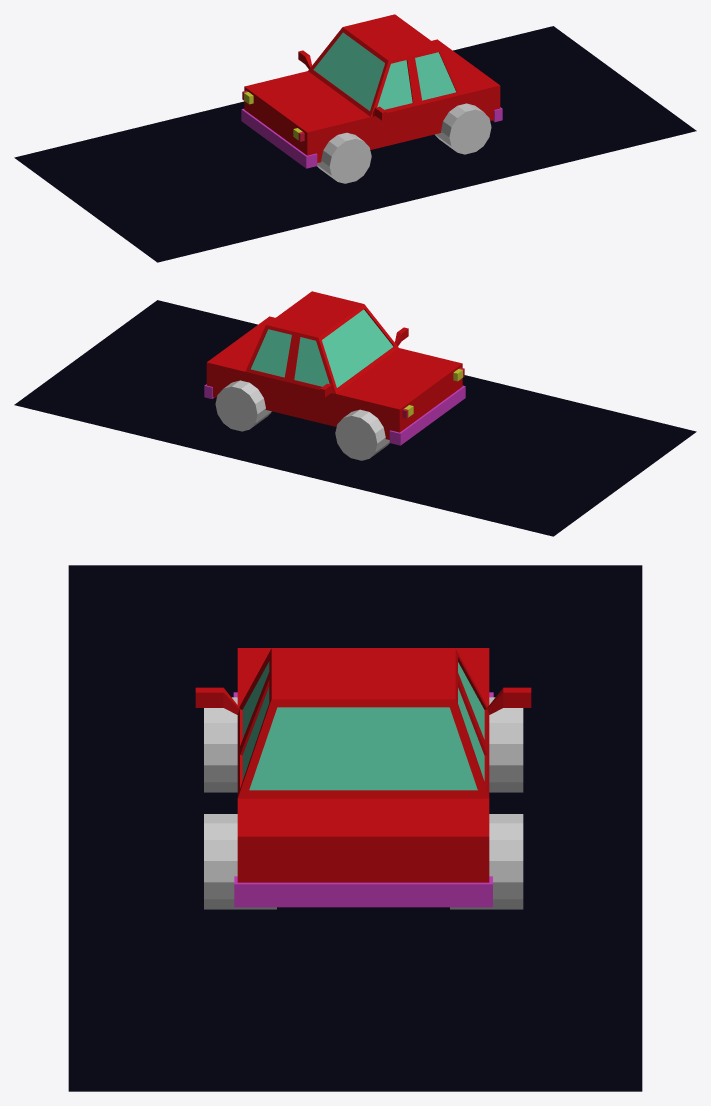
File: car1.obj
3 views of the same model, one above another, from view 1: azimuth 30°, elevation 25°; view 2: azimuth 150°, elevation 25°; view 3: azimuth 270°, elevation 25° (orthographic). The views are drawn at different scales.
Parts seen in each view (by area): view 1: Plane, Cube_Cube.001, Cylinder.002_Cylinder.007, Cylinder_Cylinder.005; view 2: Plane, Cube_Cube.001, Cylinder.002_Cylinder.007, Cylinder_Cylinder.005; view 3: Plane, Cube_Cube.001, Cylinder.002_Cylinder.007, Cylinder_Cylinder.005, Cube.002_Cube.003.
Part boxes in pixels (x1=…): Plane: x1=14, y1=26, x2=696, y2=262; Cube_Cube.001: x1=241, y1=14, x2=502, y2=168; Cylinder.002_Cylinder.007: x1=435, y1=103, x2=491, y2=154; Cylinder_Cylinder.005: x1=317, y1=132, x2=371, y2=183; Plane: x1=14, y1=300, x2=696, y2=536; Cube_Cube.001: x1=204, y1=291, x2=465, y2=445; Cylinder.002_Cylinder.007: x1=215, y1=380, x2=271, y2=431; Cylinder_Cylinder.005: x1=335, y1=409, x2=389, y2=460; Plane: x1=68, y1=565, x2=642, y2=1091; Cube_Cube.001: x1=233, y1=648, x2=493, y2=907; Cylinder.002_Cylinder.007: x1=204, y1=814, x2=523, y2=909; Cylinder_Cylinder.005: x1=204, y1=697, x2=523, y2=792; Cube.002_Cube.003: x1=195, y1=687, x2=531, y2=714.
Bounding box in the file's own units: 36.22 × 6.19 × 16.68.
